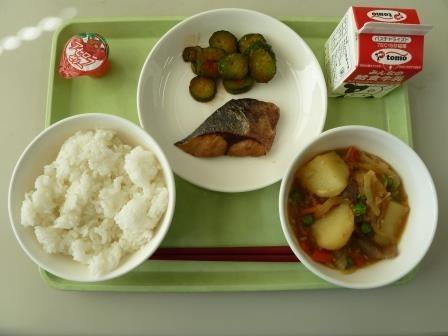Cup desserts: (52, 34, 116, 89)
Fish: (175, 100, 300, 167)
Milk: (326, 7, 422, 102)
Rice: (20, 127, 156, 281)
Salad: (167, 35, 285, 99)
vegetable based cooked food: (300, 142, 420, 269)
